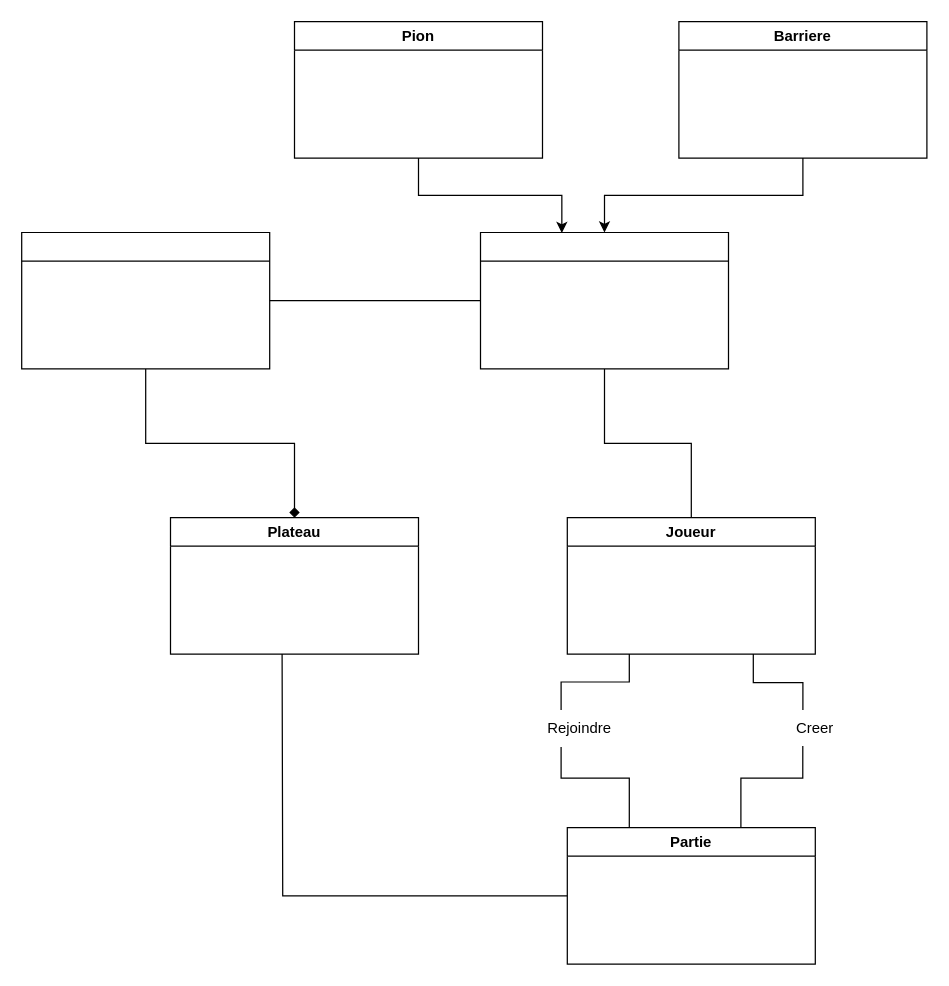
Some shapes in this 949 by 986 pixel diagram are drawn without their labels. The centre of each missing label's shape, as x and y in pixels:
"Case" goes at [145,300].
"Element {abstract}" goes at [603,300].
